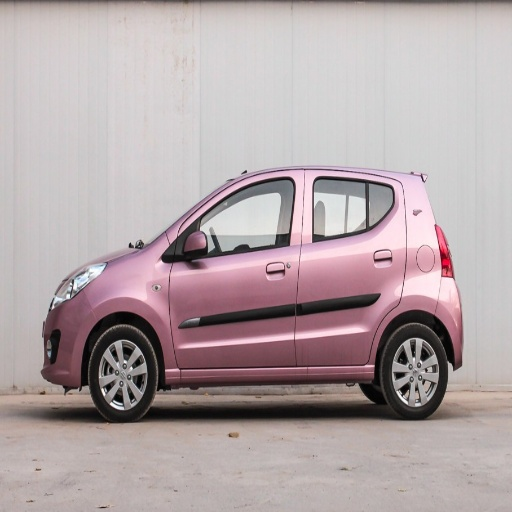back_left_door: (295, 174, 405, 365)
front_left_door: (170, 176, 304, 371)
